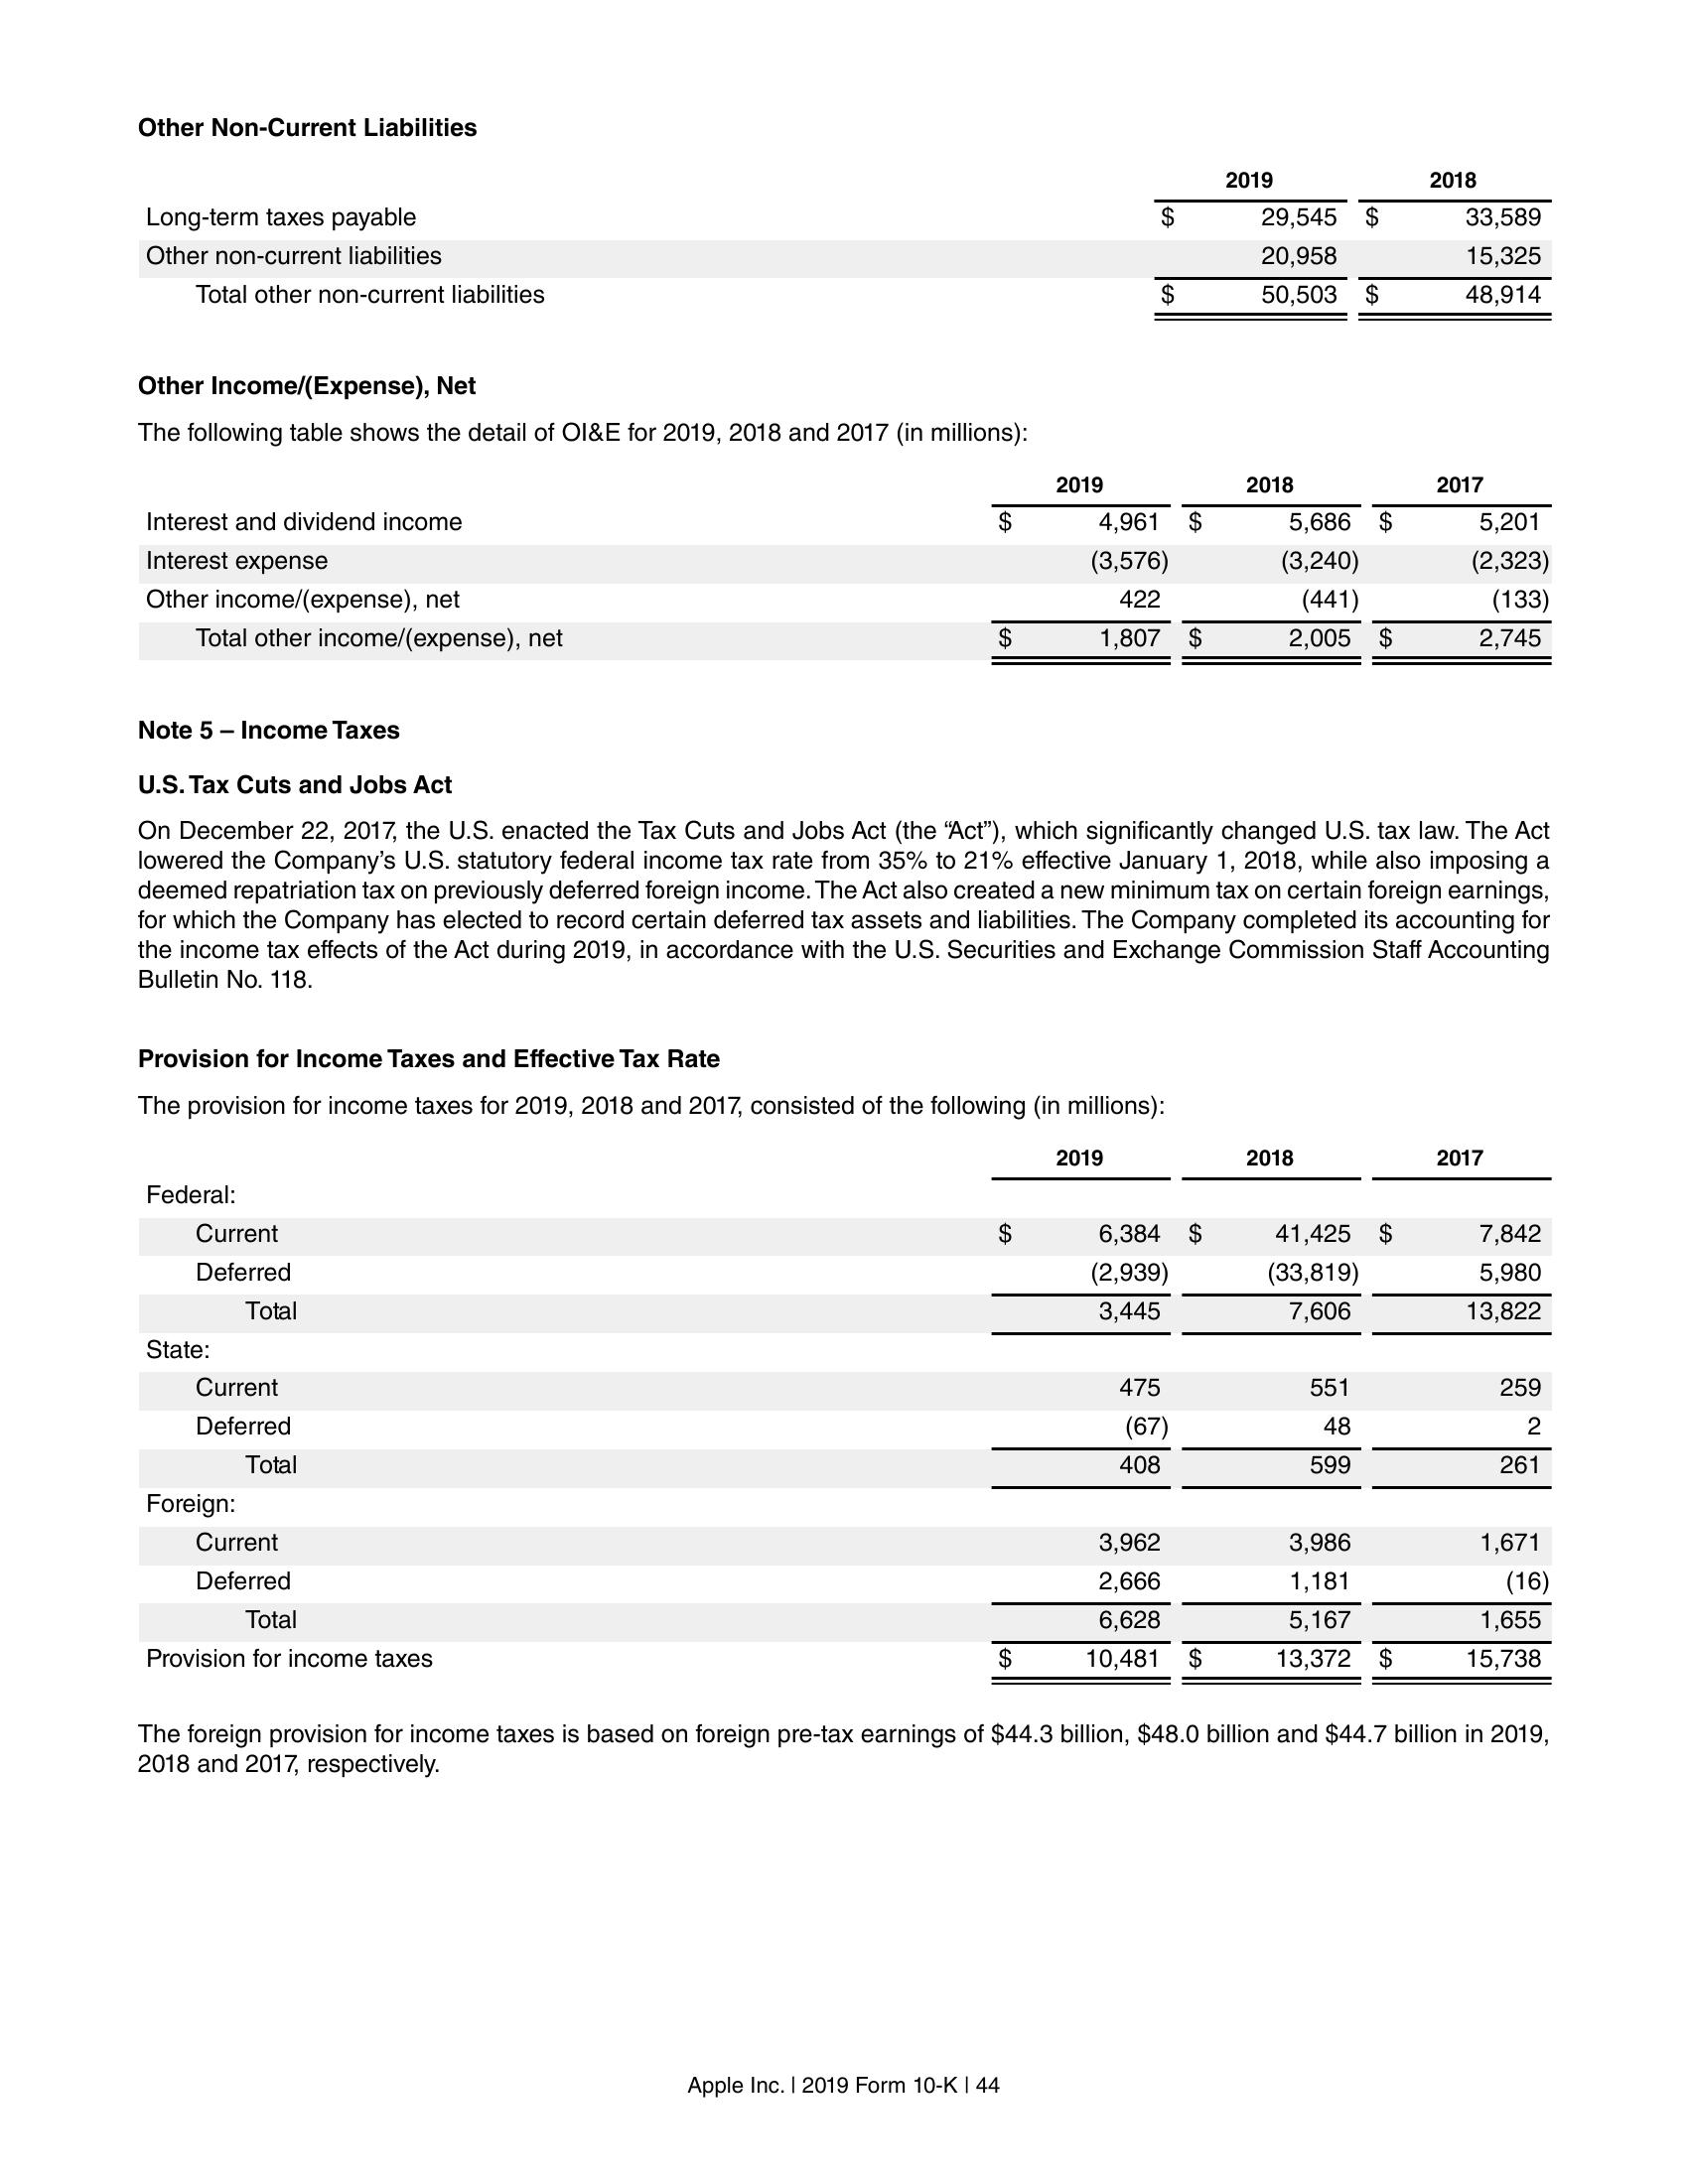table: (131, 1142, 1557, 1691), (145, 468, 1564, 672), (144, 161, 1560, 331)
